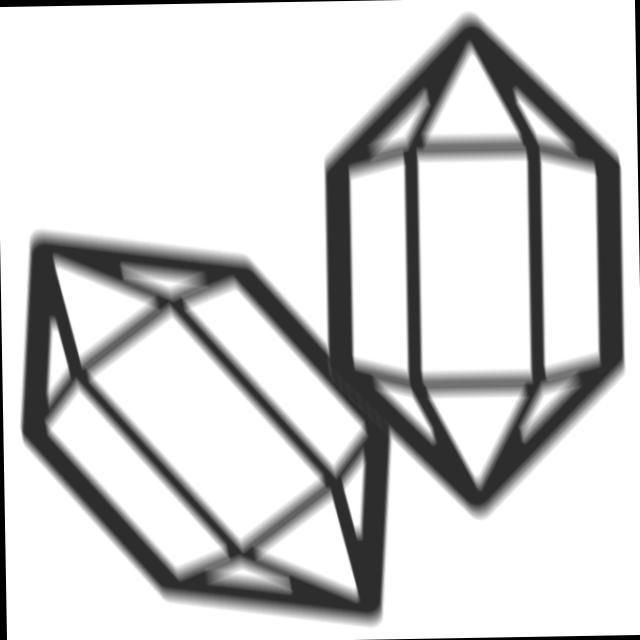crystal: (312, 3, 637, 532), (10, 214, 412, 639)
